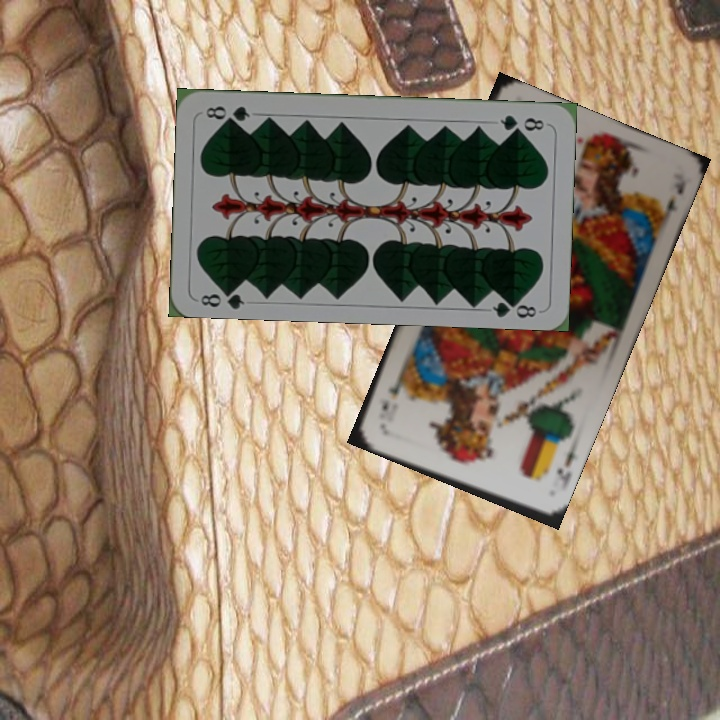EK: (553, 442, 578, 492)
G8: (197, 283, 247, 311), (496, 110, 547, 135)
